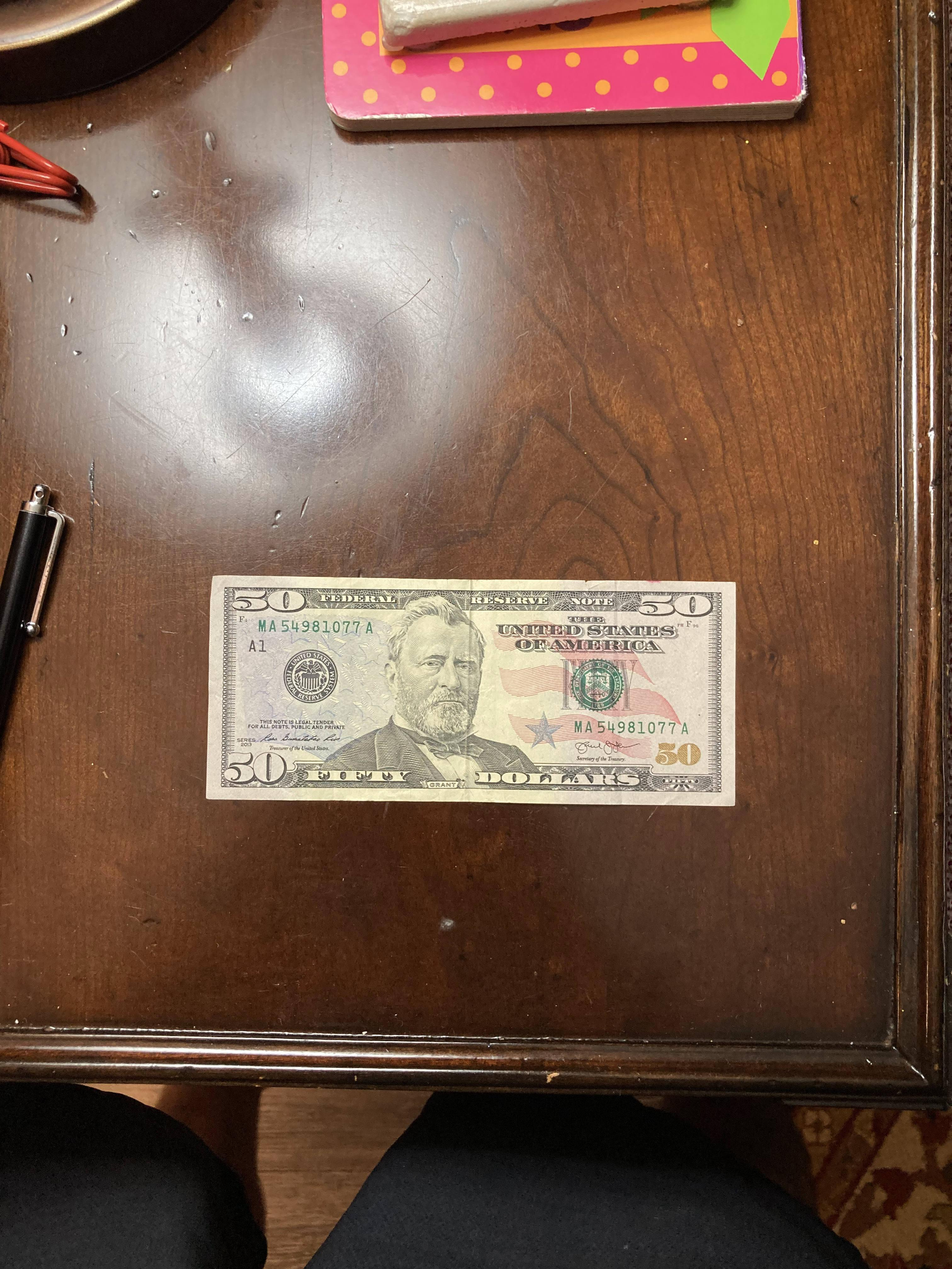fifty-front: (204, 574, 738, 808)
